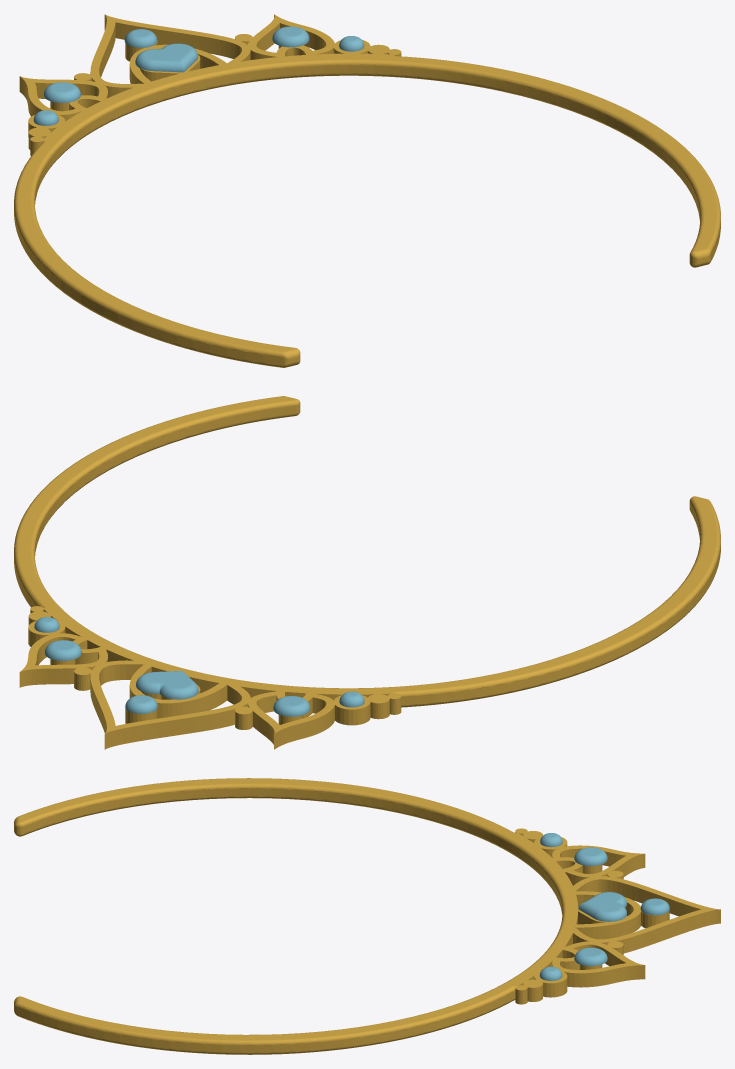
Rendered from party-crown.glb.
3 views of the same model, one above another, from view 1: azimuth 30°, elevation 25°; view 2: azimuth 150°, elevation 25°; view 3: azimuth 270°, elevation 25° (orthographic). The views are drawn at different scales.
Visible parts, largest first — view 1: 00-k_rper2; view 2: 00-k_rper2; view 3: 00-k_rper2.
Boxes of the visible parts, <box> form: 00-k_rper2: <box>14,14,720,367</box>; 00-k_rper2: <box>14,396,720,749</box>; 00-k_rper2: <box>14,778,720,1054</box>.
Bounding box in the file's own units: 160 × 6 × 180.
